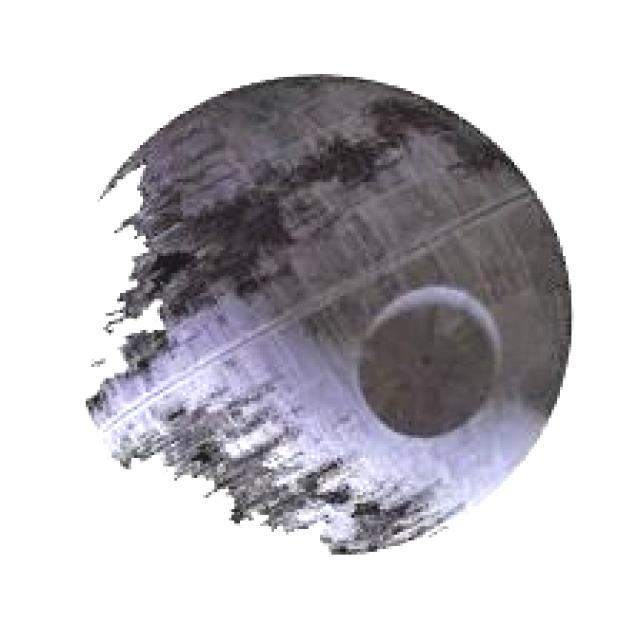deathstar: (83, 70, 579, 553)
